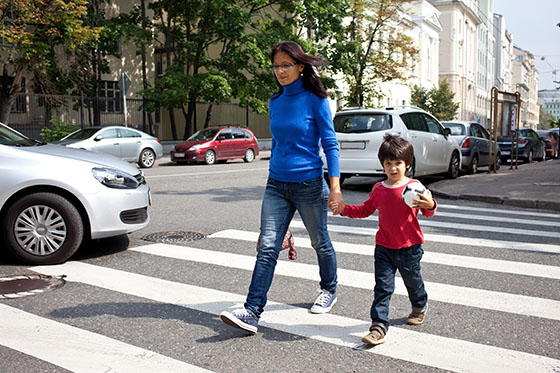Car: (1, 117, 163, 255), (313, 105, 470, 176), (45, 123, 169, 169), (161, 122, 264, 162), (439, 115, 507, 170)
Crosswalk: (435, 198, 560, 371)
Person: (237, 35, 347, 340), (339, 135, 432, 352)
